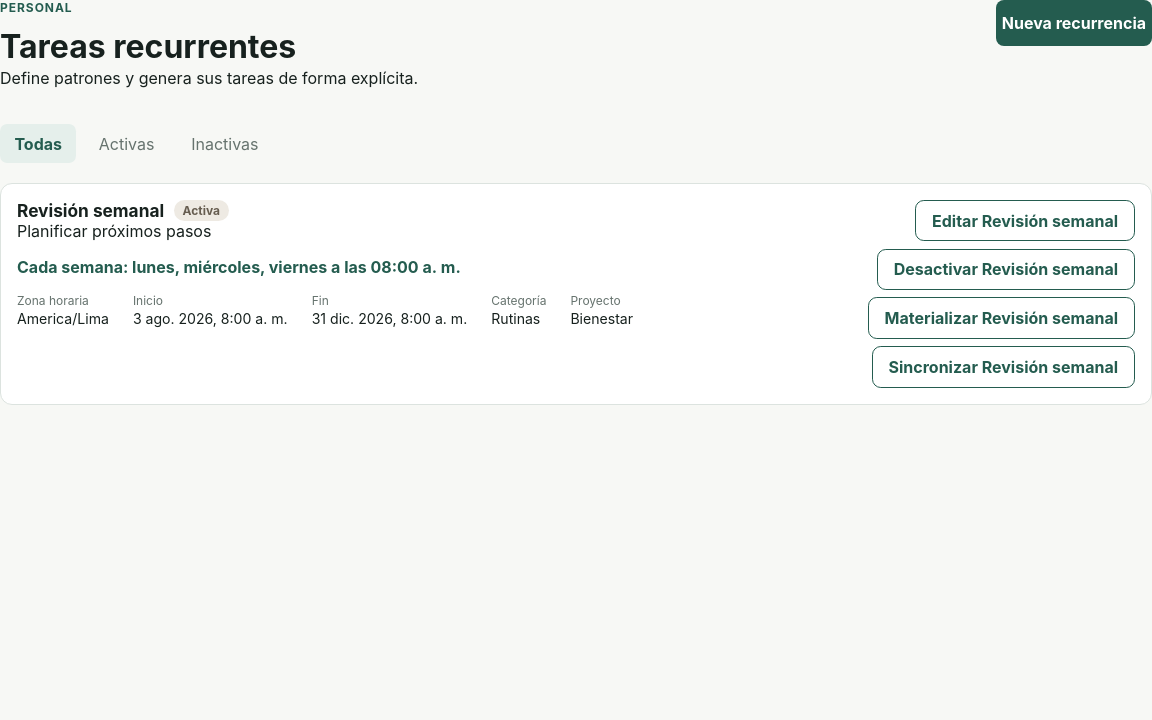
Test: RecurringTasksPage › preserves inactive existing associations while blocking new inactive assignment
Expected: the heading "Revisión semanal" is shown, [17,200,164,221]
Click the button "Editar Revisión semanal". click: (1025, 221)
box: [915,200,1135,241]
(page scrolled)
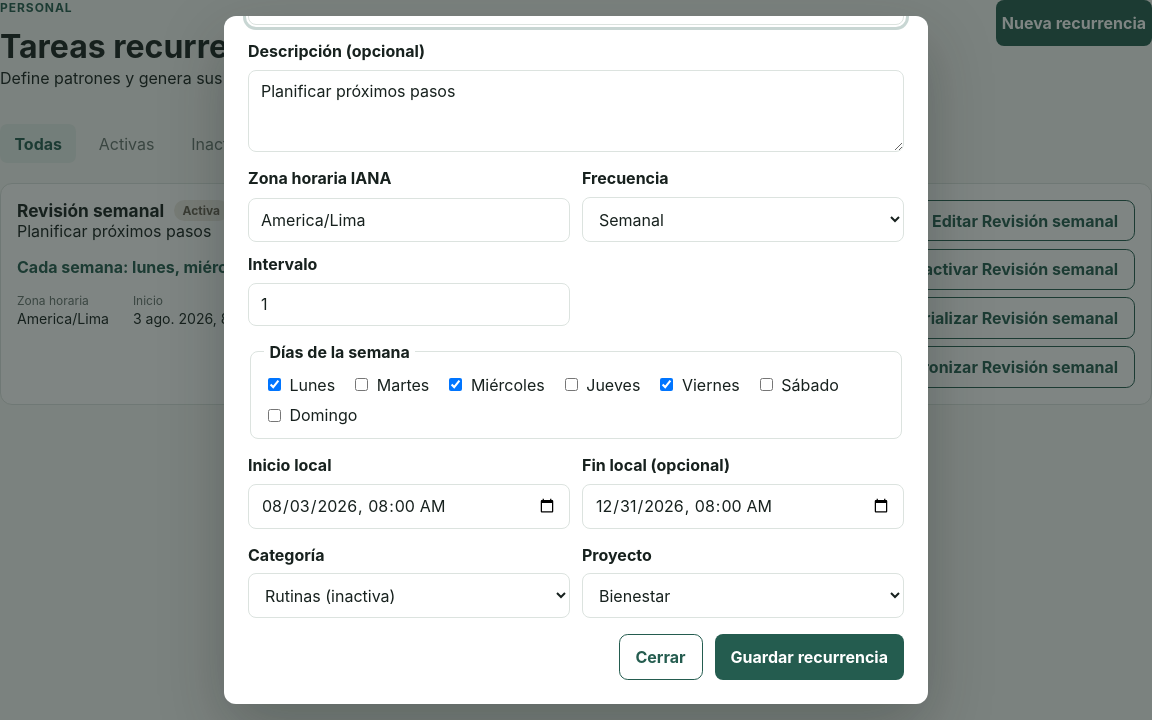
Expected: the dropdown labelled "Categoría" shows "Rutinas (inactiva)", [248,573,570,618]
